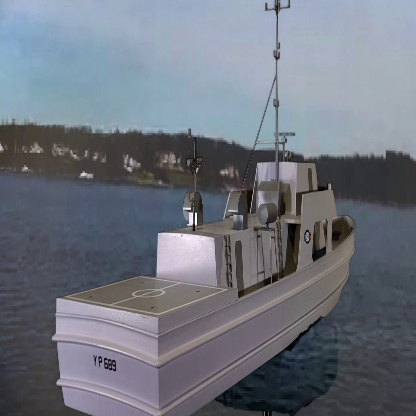YP689: (53, 0, 363, 416)
